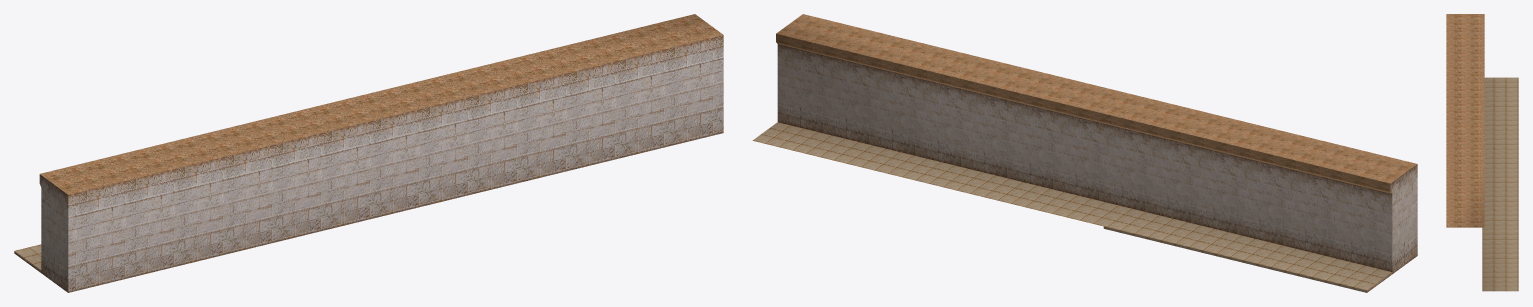
File: M2Zone4_Building15_D.glb
3 views of the same model, side by side, from view 1: azimuth 30°, elevation 25°; view 2: azimuth 150°, elevation 25°; view 3: azimuth 270°, elevation 25° (orthographic). The views are drawn at different scales.
Parts seen in each view (by area): view 1: M2ZONE4_BUILDING15_D; view 2: M2ZONE4_BUILDING15_D; view 3: M2ZONE4_BUILDING15_D.
Boxes of the visible parts, x1,y1,x2,y2 form: M2ZONE4_BUILDING15_D: (14,14,723,292); M2ZONE4_BUILDING15_D: (752,14,1417,292); M2ZONE4_BUILDING15_D: (1446,14,1518,291).
Size of the model in its own units: 28 by 4 by 4.
Materials: 4 (4 with a texture image).
